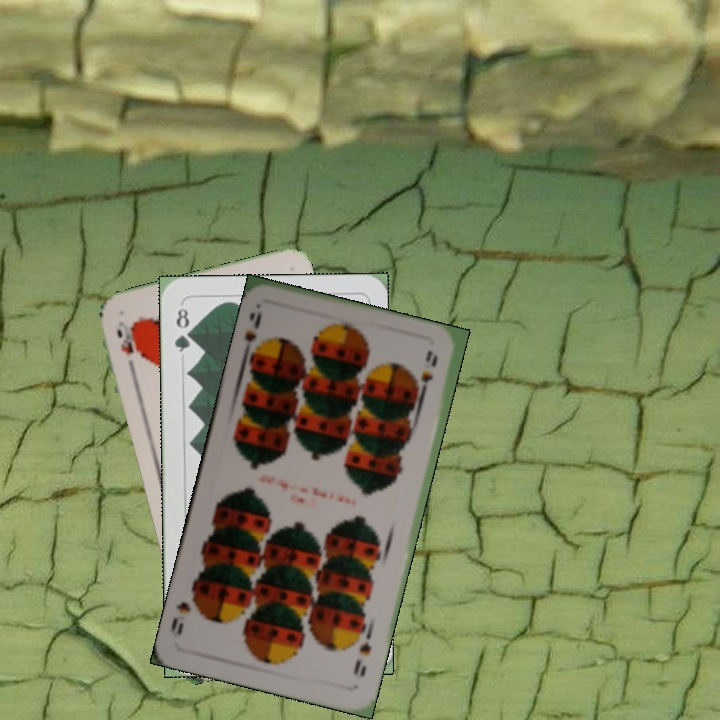G8: (170, 304, 194, 355)
HO: (113, 322, 138, 374)
S9: (239, 302, 265, 362), (349, 628, 374, 680)
